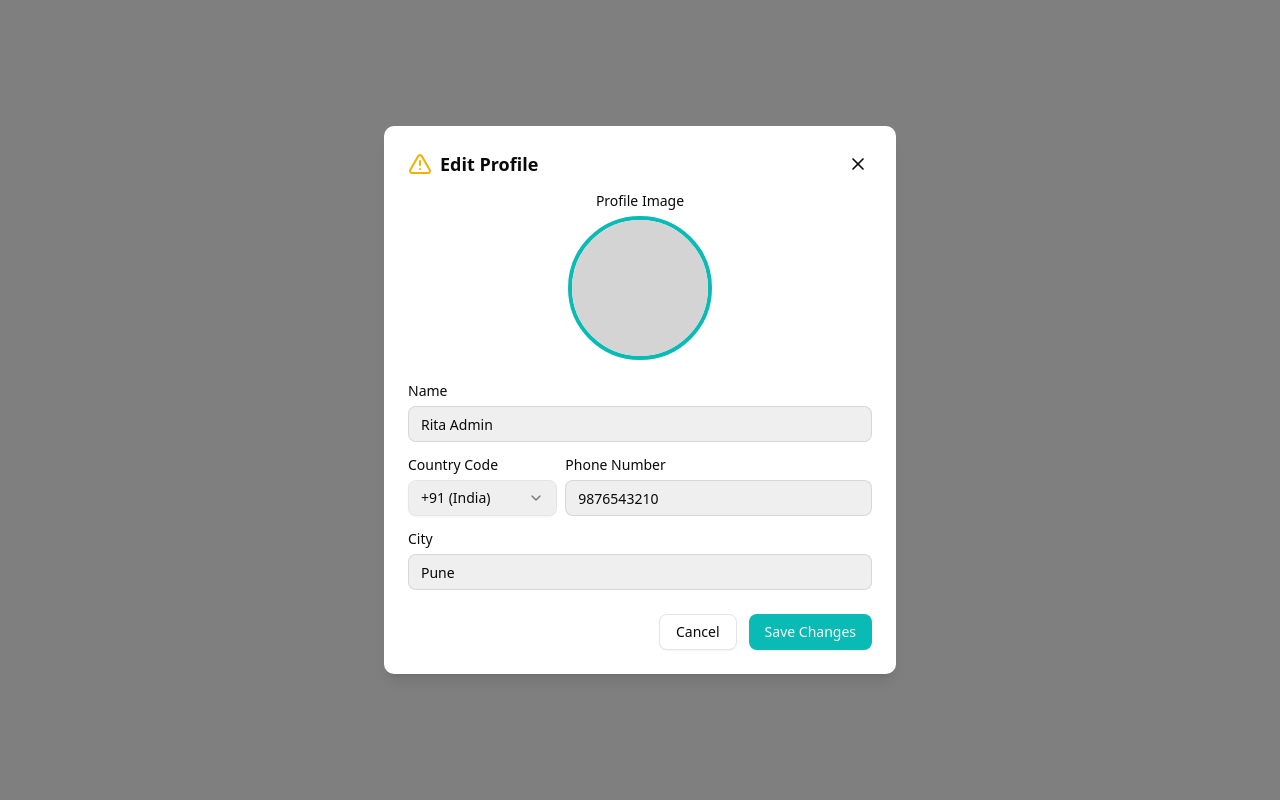
Test: EditProfileModal › refuses to save with a one-character name
Replace the text in the field with placeholder "Enter your name" with "R" at (640, 424), box 408,406 -> 872,442
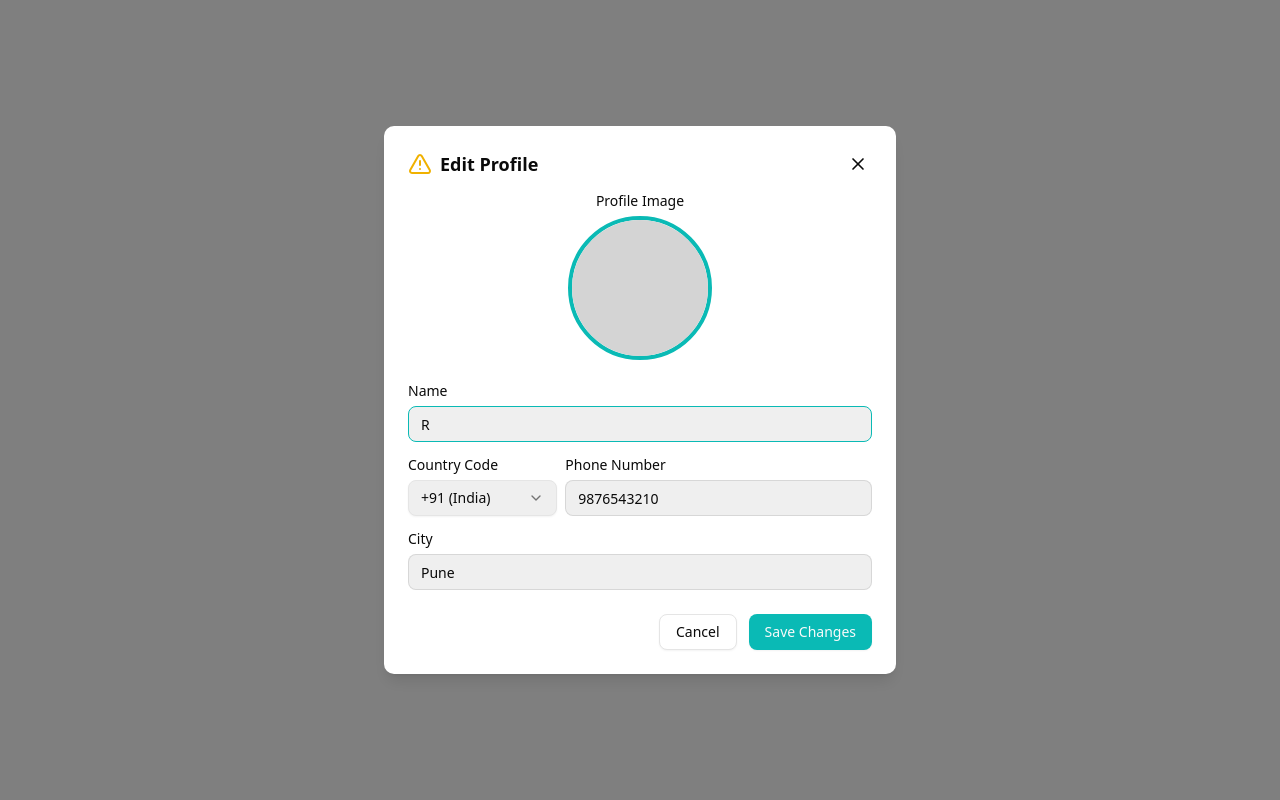
Click the button "Save Changes" at (810, 632), box 749,614 -> 872,650
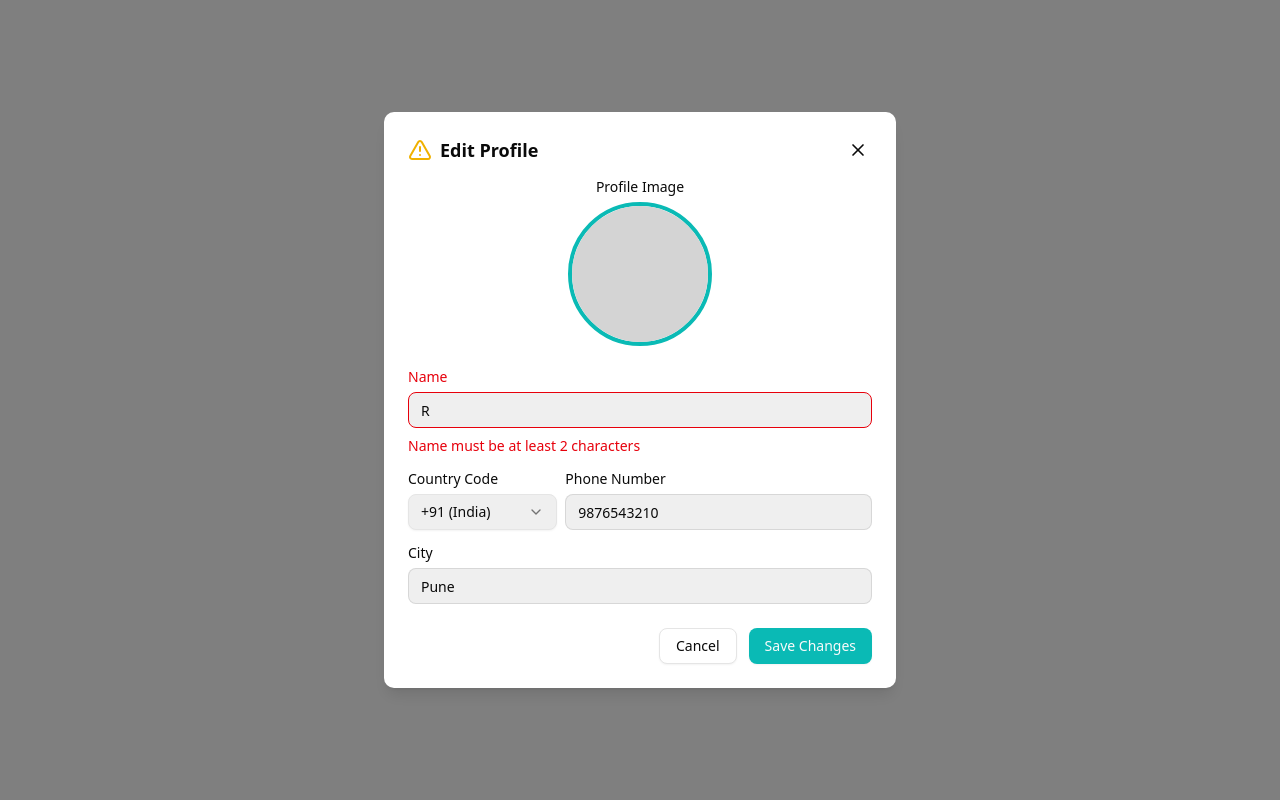
Expected: the text "Name must be at least 2 characters" is shown, 408,436 -> 640,455
